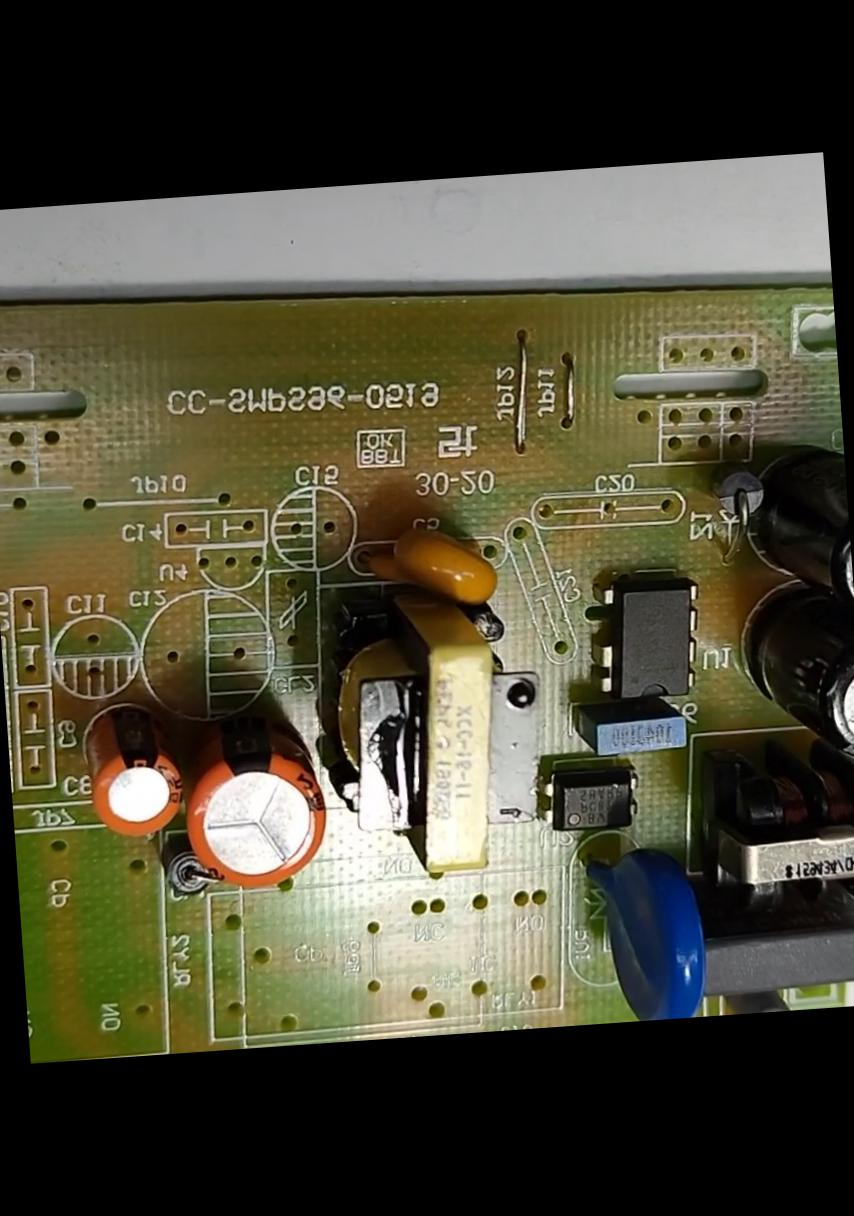Cap1: (180, 709, 328, 895)
Cap2: (80, 706, 184, 838)
Cap3: (755, 635, 853, 778)
Cap4: (751, 445, 853, 634)
MOSFET: (593, 577, 706, 703)
Mov: (588, 841, 708, 1023)
Resistor: (720, 988, 793, 1014)
Transformer: (306, 568, 549, 884), (712, 777, 853, 916)
